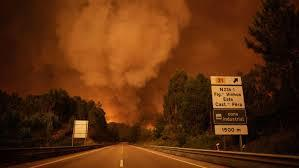yanwu: (58, 0, 191, 126)
